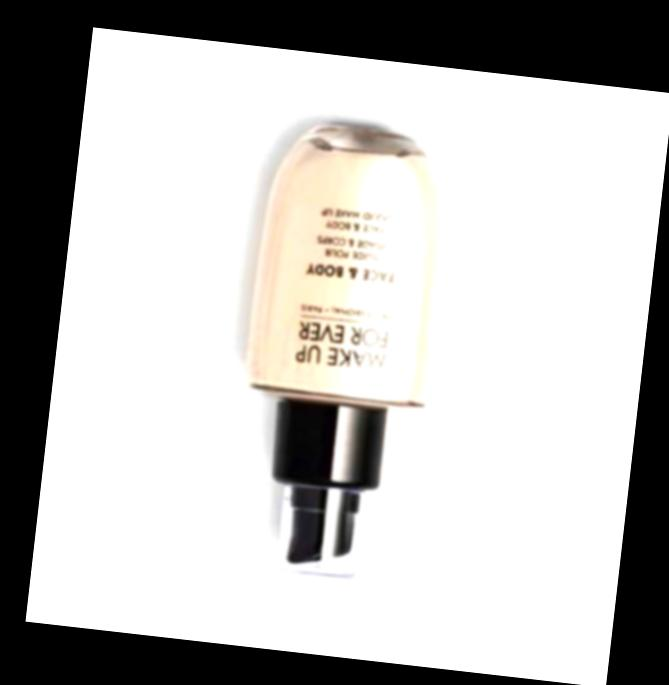cosmetic: (220, 114, 457, 587)
